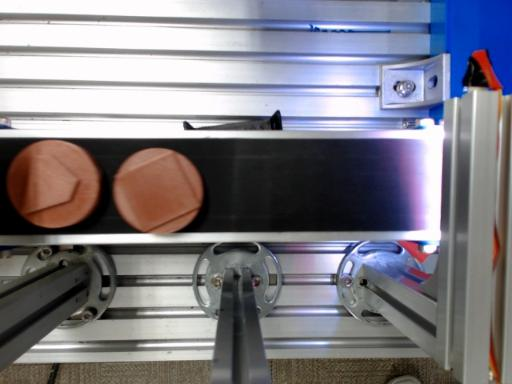Brown_Waper: (6, 141, 102, 228), (113, 148, 203, 234)
